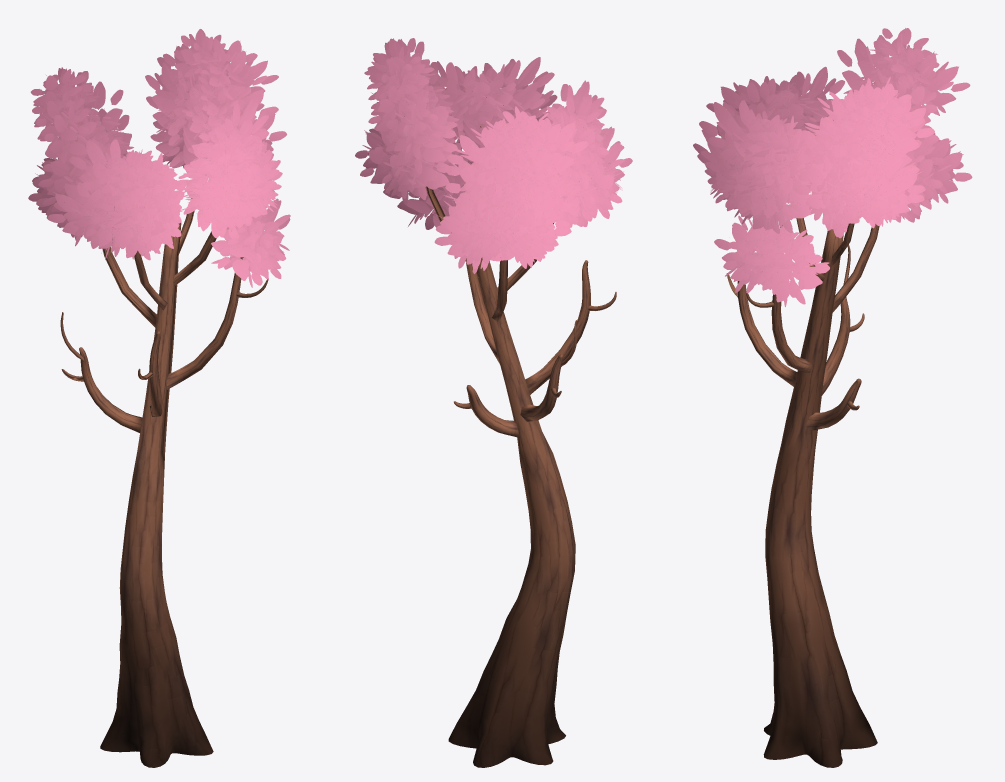
Rendered from tree-wedding-1-young.glb.
The picture shows the model from 3 angles, left to right: view 1: azimuth 30°, elevation 25°; view 2: azimuth 150°, elevation 25°; view 3: azimuth 270°, elevation 25°; orthographic projection. The views are drawn at different scales.
Visible parts, largest first — view 1: CommonTree_4; view 2: CommonTree_4; view 3: CommonTree_4.
Part boxes in pixels (x1=…): CommonTree_4: x1=28, y1=29, x2=290, y2=767; CommonTree_4: x1=355, y1=38, x2=632, y2=767; CommonTree_4: x1=693, y1=28, x2=972, y2=767.
Size of the model in its own units: 0.9728 by 2.4 by 0.9549.
2 materials, 2 textured.
